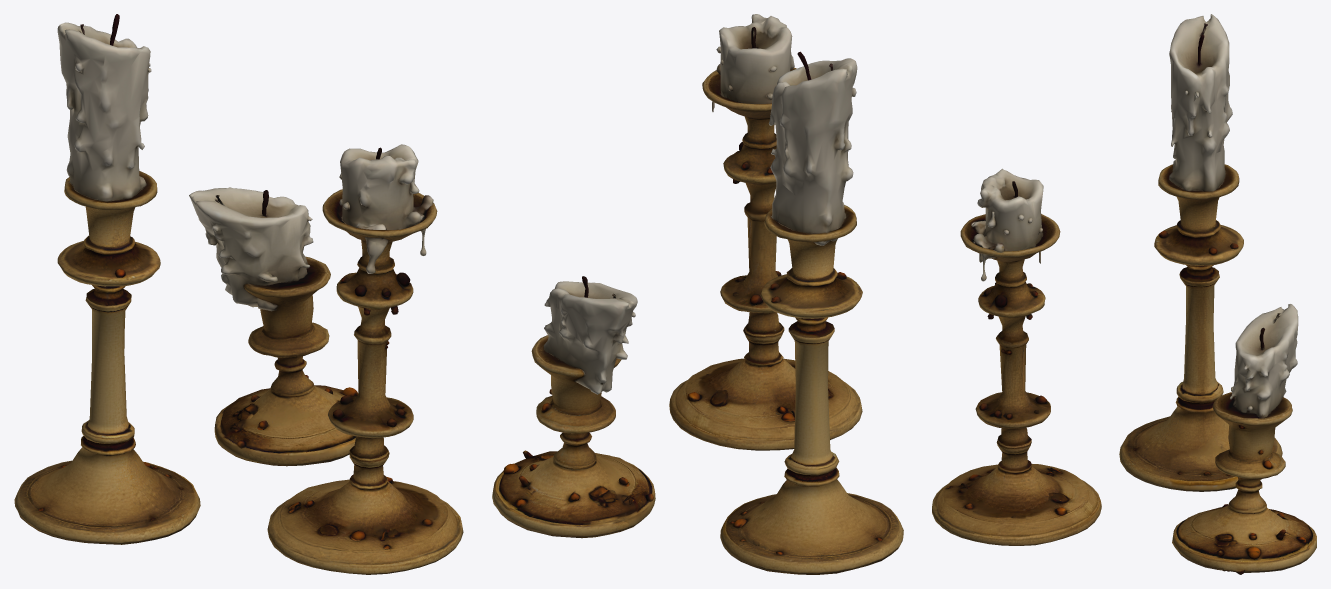
3 renders of one model, left to right at view 1: azimuth 30°, elevation 25°; view 2: azimuth 150°, elevation 25°; view 3: azimuth 270°, elevation 25°, orthographic. The views are drawn at different scales.
Visible parts, largest first — view 1: tripo_node_8bc8361b-6938-4bd5-bc36-3b9e96133150; view 2: tripo_node_8bc8361b-6938-4bd5-bc36-3b9e96133150; view 3: tripo_node_8bc8361b-6938-4bd5-bc36-3b9e96133150.
Boxes of the visible parts, left/top/right/bottom form: tripo_node_8bc8361b-6938-4bd5-bc36-3b9e96133150: left=14, top=14, right=463, bottom=574; tripo_node_8bc8361b-6938-4bd5-bc36-3b9e96133150: left=492, top=14, right=903, bottom=574; tripo_node_8bc8361b-6938-4bd5-bc36-3b9e96133150: left=932, top=14, right=1316, bottom=574.
Size of the model in its own units: 0.7871 by 0.998 by 0.8145.
Materials: 1 (1 with a texture image).
